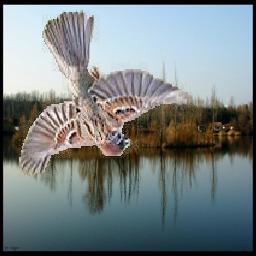Sparrow: (20, 11, 193, 178)
